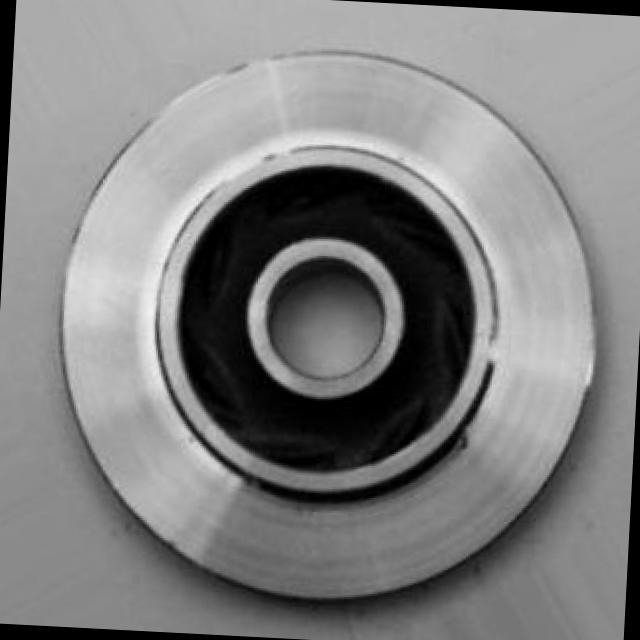Defect: (451, 430, 474, 456)
